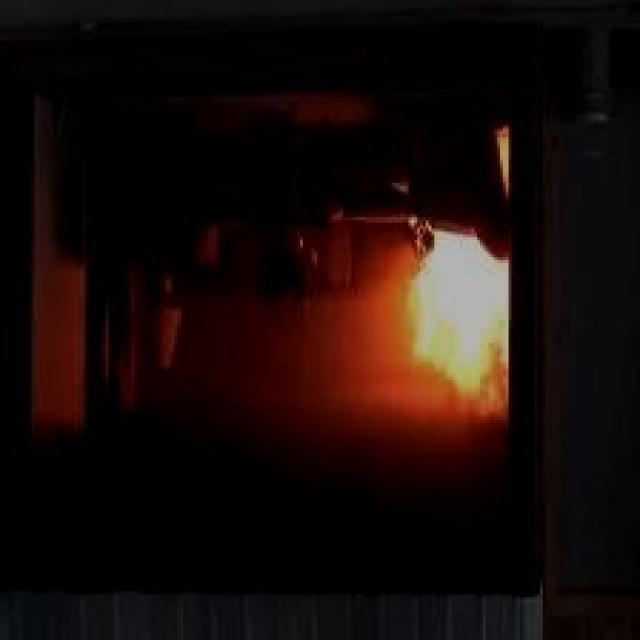fire: (387, 227, 536, 413)
smoke: (11, 380, 540, 591)
